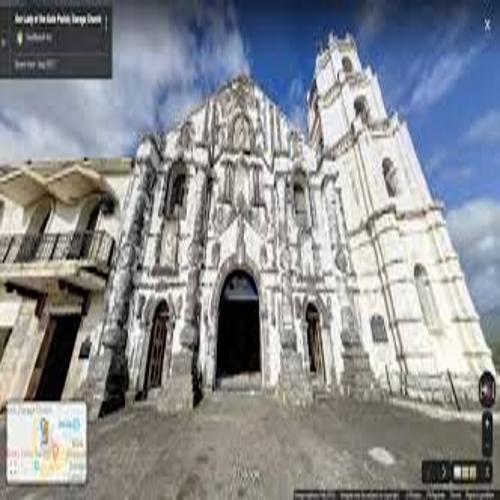Daraga Church: (106, 30, 495, 435)
